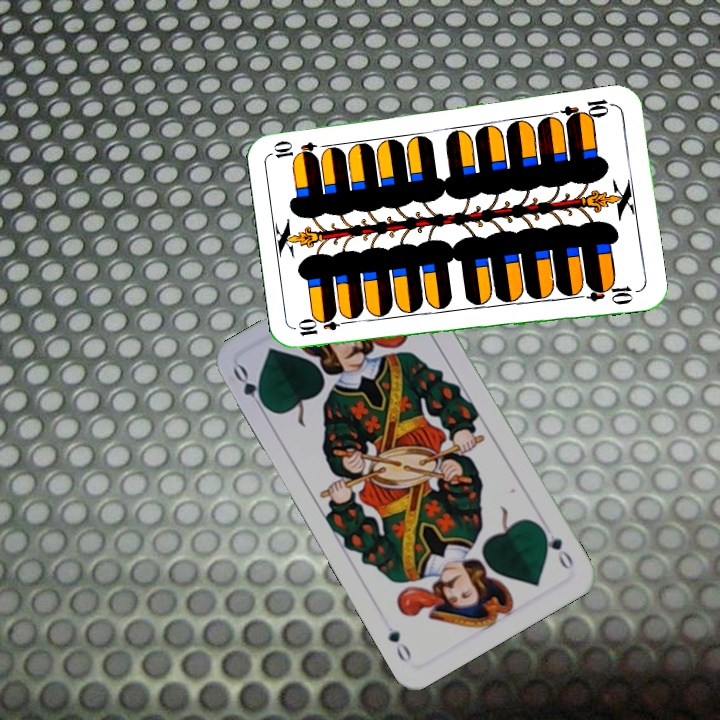E10: (558, 95, 617, 125), (294, 314, 353, 339)
GO: (228, 361, 272, 416), (535, 522, 577, 572)
